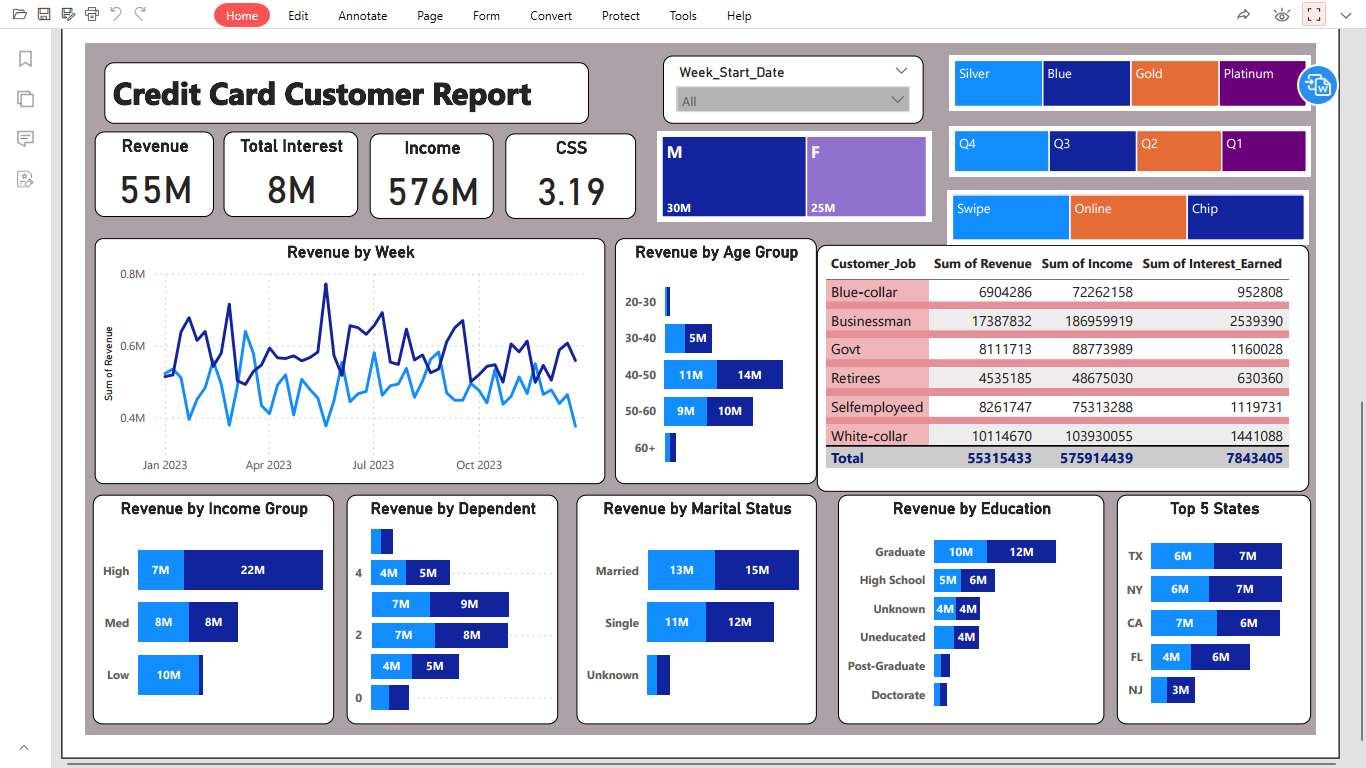

This screenshot's page, from the dashboard's own definition file:
{"tool":"powerbi","page":{"name":"credit card report","canvas":[1280,720],"ordinal":1},"visuals":[{"type":"textbox","box":[20.2,20.2,503.9,63.8],"z":0},{"type":"barChart","title":"Revenue by Income Group","fields":{"Y":["Sum(credit_card.Revenue)"],"Category":["customer.IncomeGroup"],"Series":["customer.Gender"]},"box":[8.4,470.3,250.3,238.5],"z":1000},{"type":"tableEx","fields":{"Values":["customer.Customer_Job","Sum(credit_card.Revenue)","Sum(customer.Income)","Sum(credit_card.Interest_Earned)"]},"box":[760.9,210,512.3,257],"z":2000},{"type":"card","title":"Revenue","fields":{"Values":["Sum(credit_card.Revenue)"]},"box":[10.1,92.4,124.3,89],"z":3000},{"type":"card","title":"Income","fields":{"Values":["Sum(customer.Income)"]},"box":[295.6,94.1,129.3,89],"z":4000},{"type":"card","title":"Total Interest","fields":{"Values":["Sum(credit_card.Interest_Earned)"]},"box":[144.5,92.4,139.4,89],"z":5000},{"type":"card","title":"CSS","fields":{"Values":["Avg(customer.Cust_Satisfaction_Score)"]},"box":[436.7,94.1,136.1,89],"z":6000},{"type":"slicer","fields":{"Values":["credit_card.Week_Start_Date"]},"box":[601.4,13.4,270.4,70.6],"z":7000},{"type":"treemap","fields":{"Group":["credit_card.Qtr"],"Values":["Avg(customer.Client_Num)"]},"box":[898.7,85.7,376.3,53.8],"z":8000},{"type":"treemap","fields":{"Values":["Avg(customer.Client_Num)"],"Group":["credit_card.Card_Category"]},"box":[898.7,13.4,376.3,57.1],"z":10000},{"type":"lineChart","title":"Revenue by Week","fields":{"Y":["Sum(credit_card.Revenue)"],"Series":["customer.Gender"],"Category":["credit_card.Week_Start_Date.Variation.Date Hierarchy.Year","credit_card.Week_Start_Date.Variation.Date Hierarchy.Quarter","credit_card.Week_Start_Date.Variation.Date Hierarchy.Month","credit_card.Week_Start_Date.Variation.Date Hierarchy.Day"]},"box":[10.1,203.3,530.8,255.3],"z":12000},{"type":"treemap","fields":{"Group":["customer.Gender"],"Values":["Sum(credit_card.Revenue)"]},"box":[594.6,92.4,285.6,94.1],"z":12001},{"type":"barChart","title":"Revenue by Age Group","fields":{"Y":["Sum(credit_card.Revenue)"],"Category":["customer.AgeGroup"],"Series":["customer.Gender"]},"box":[551,203.3,210,255.3],"z":12003},{"type":"barChart","title":"Revenue by Dependent","fields":{"Y":["Sum(credit_card.Revenue)"],"Category":["customer.Dependent_Count"],"Series":["customer.Gender"]},"box":[272.1,470.3,220.1,238.5],"z":12004},{"type":"barChart","title":"Revenue by Education","fields":{"Y":["Sum(credit_card.Revenue)"],"Category":["customer.Education_Level"],"Series":["customer.Gender"]},"box":[782.8,470.3,277.2,238.5],"z":12005},{"type":"barChart","title":"Top 5 States","fields":{"Y":["Sum(credit_card.Revenue)"],"Category":["customer.state_cd"],"Series":["customer.Gender"]},"box":[1073.4,470.3,201.6,238.5],"z":12006},{"type":"barChart","title":"Revenue by Marital Status","fields":{"Y":["Sum(credit_card.Revenue)"],"Category":["customer.Marital_Status"],"Series":["customer.Gender"]},"box":[510.7,470.3,250.3,238.5],"z":12007},{"type":"treemap","fields":{"Values":["Avg(customer.Client_Num)"],"Group":["credit_card.Use Chip"]},"box":[897,152.9,376.3,57.1],"z":12008}]}

Visuals, with their boxes on the page's 1280x720 design canvas (x1, y1, x2, y2). These are canvas units, not pixel positions in the 1366x768 screenshot, which may show the page scaled, cropped or inside an application window:
textbox: 20 20 524 84
"Revenue by Income Group" barChart: 8 470 259 709
tableEx - customer.Customer_Job x Sum(credit_card.Revenue): 761 210 1273 467
"Revenue" card: 10 92 134 181
"Income" card: 296 94 425 183
"Total Interest" card: 144 92 284 181
"CSS" card: 437 94 573 183
slicer - credit_card.Week_Start_Date: 601 13 872 84
treemap - credit_card.Qtr x Avg(customer.Client_Num): 899 86 1275 140
treemap - Avg(customer.Client_Num) x credit_card.Card_Category: 899 13 1275 70
"Revenue by Week" lineChart: 10 203 541 459
treemap - customer.Gender x Sum(credit_card.Revenue): 595 92 880 186
"Revenue by Age Group" barChart: 551 203 761 459
"Revenue by Dependent" barChart: 272 470 492 709
"Revenue by Education" barChart: 783 470 1060 709
"Top 5 States" barChart: 1073 470 1275 709
"Revenue by Marital Status" barChart: 511 470 761 709
treemap - Avg(customer.Client_Num) x credit_card.Use Chip: 897 153 1273 210
